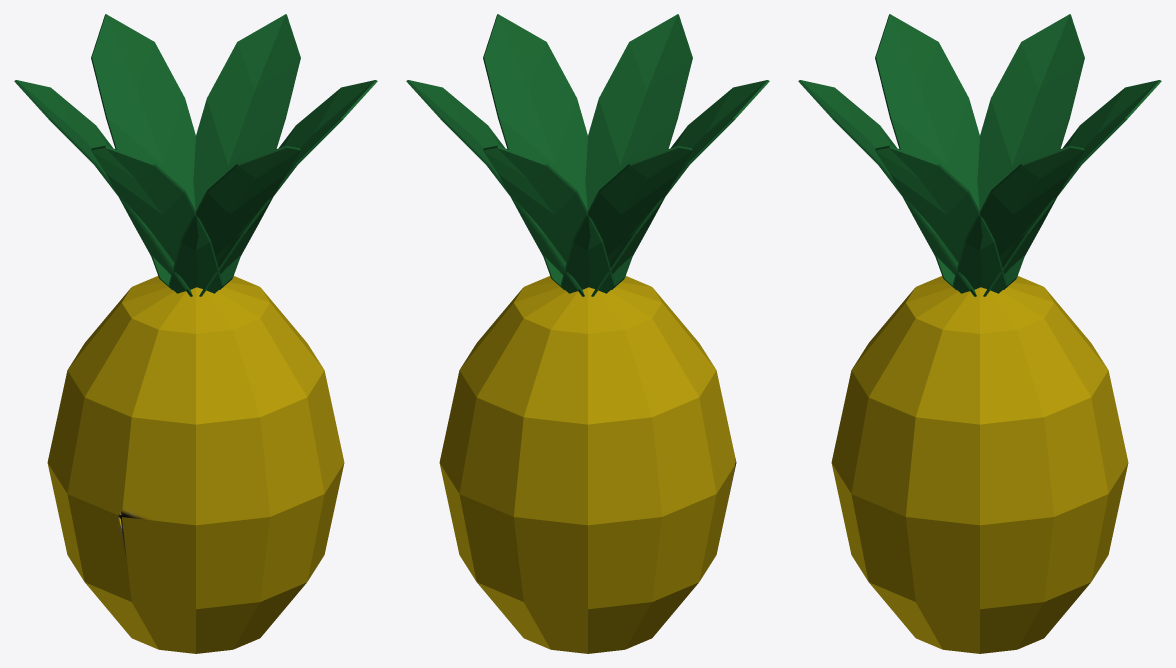
File: PineApple.fbx
The picture shows the model from 3 angles, left to right: view 1: azimuth 30°, elevation 25°; view 2: azimuth 150°, elevation 25°; view 3: azimuth 270°, elevation 25°; orthographic projection.
Visible parts, largest first — view 1: 球; view 2: 球; view 3: 球.
Boxes of the visible parts, bbox=[...] form: 球: bbox=[14, 14, 377, 653]; 球: bbox=[406, 14, 769, 653]; 球: bbox=[798, 14, 1161, 653].
Size of the model in its own units: 80.95 by 161 by 93.47.
